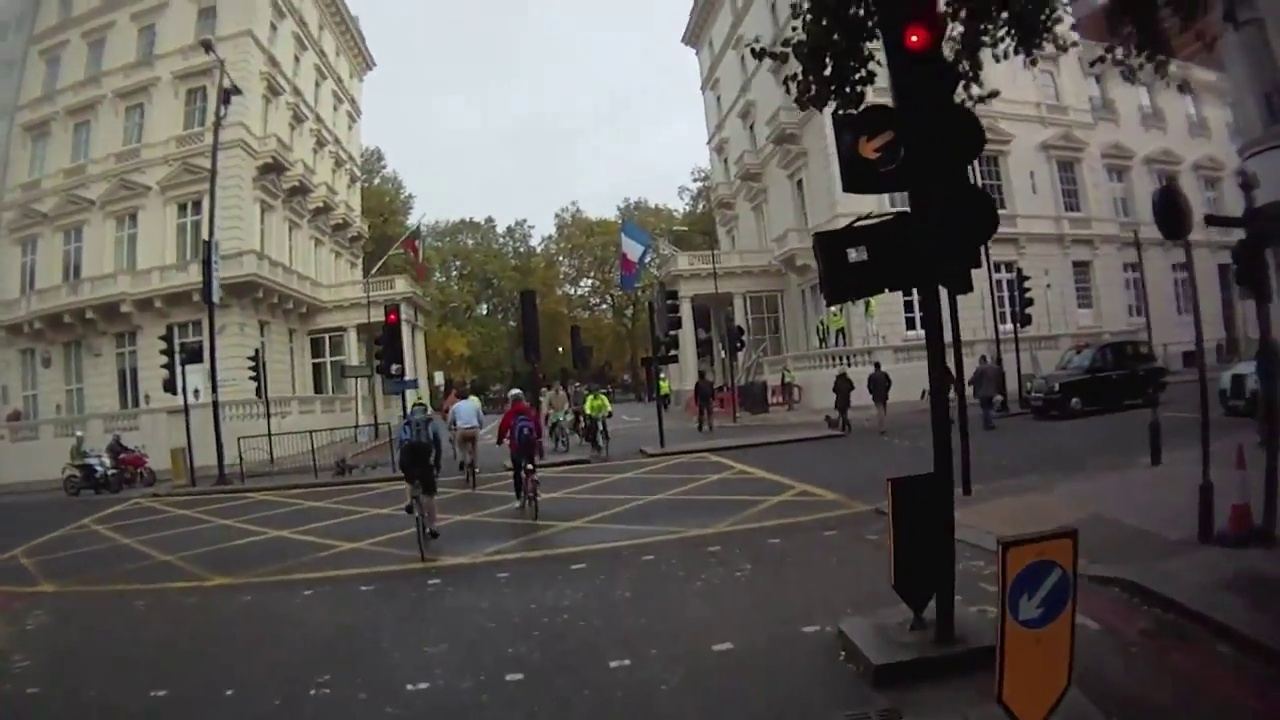cyclist_back: (388, 394, 447, 566), (500, 386, 545, 526), (448, 376, 489, 497)
cyclist_front: (541, 379, 582, 458), (586, 384, 613, 468)
